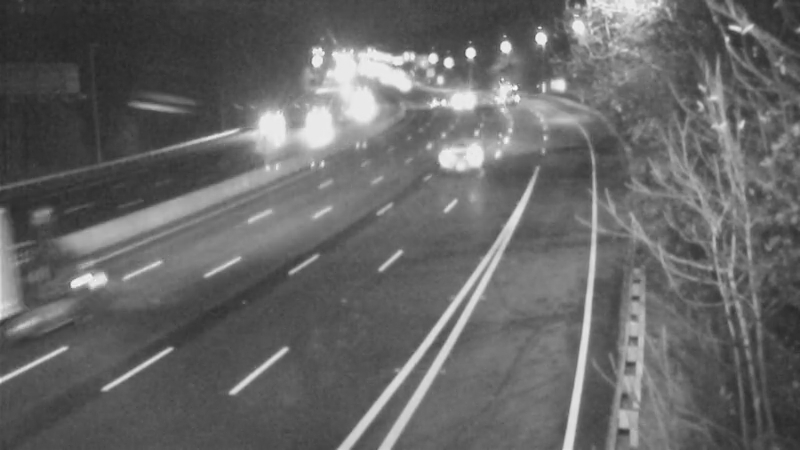vehicle: (421, 120, 501, 200), (1, 254, 77, 334), (484, 71, 534, 121), (435, 76, 485, 126), (411, 79, 461, 129), (287, 109, 337, 159), (228, 107, 278, 157), (336, 83, 386, 133)
